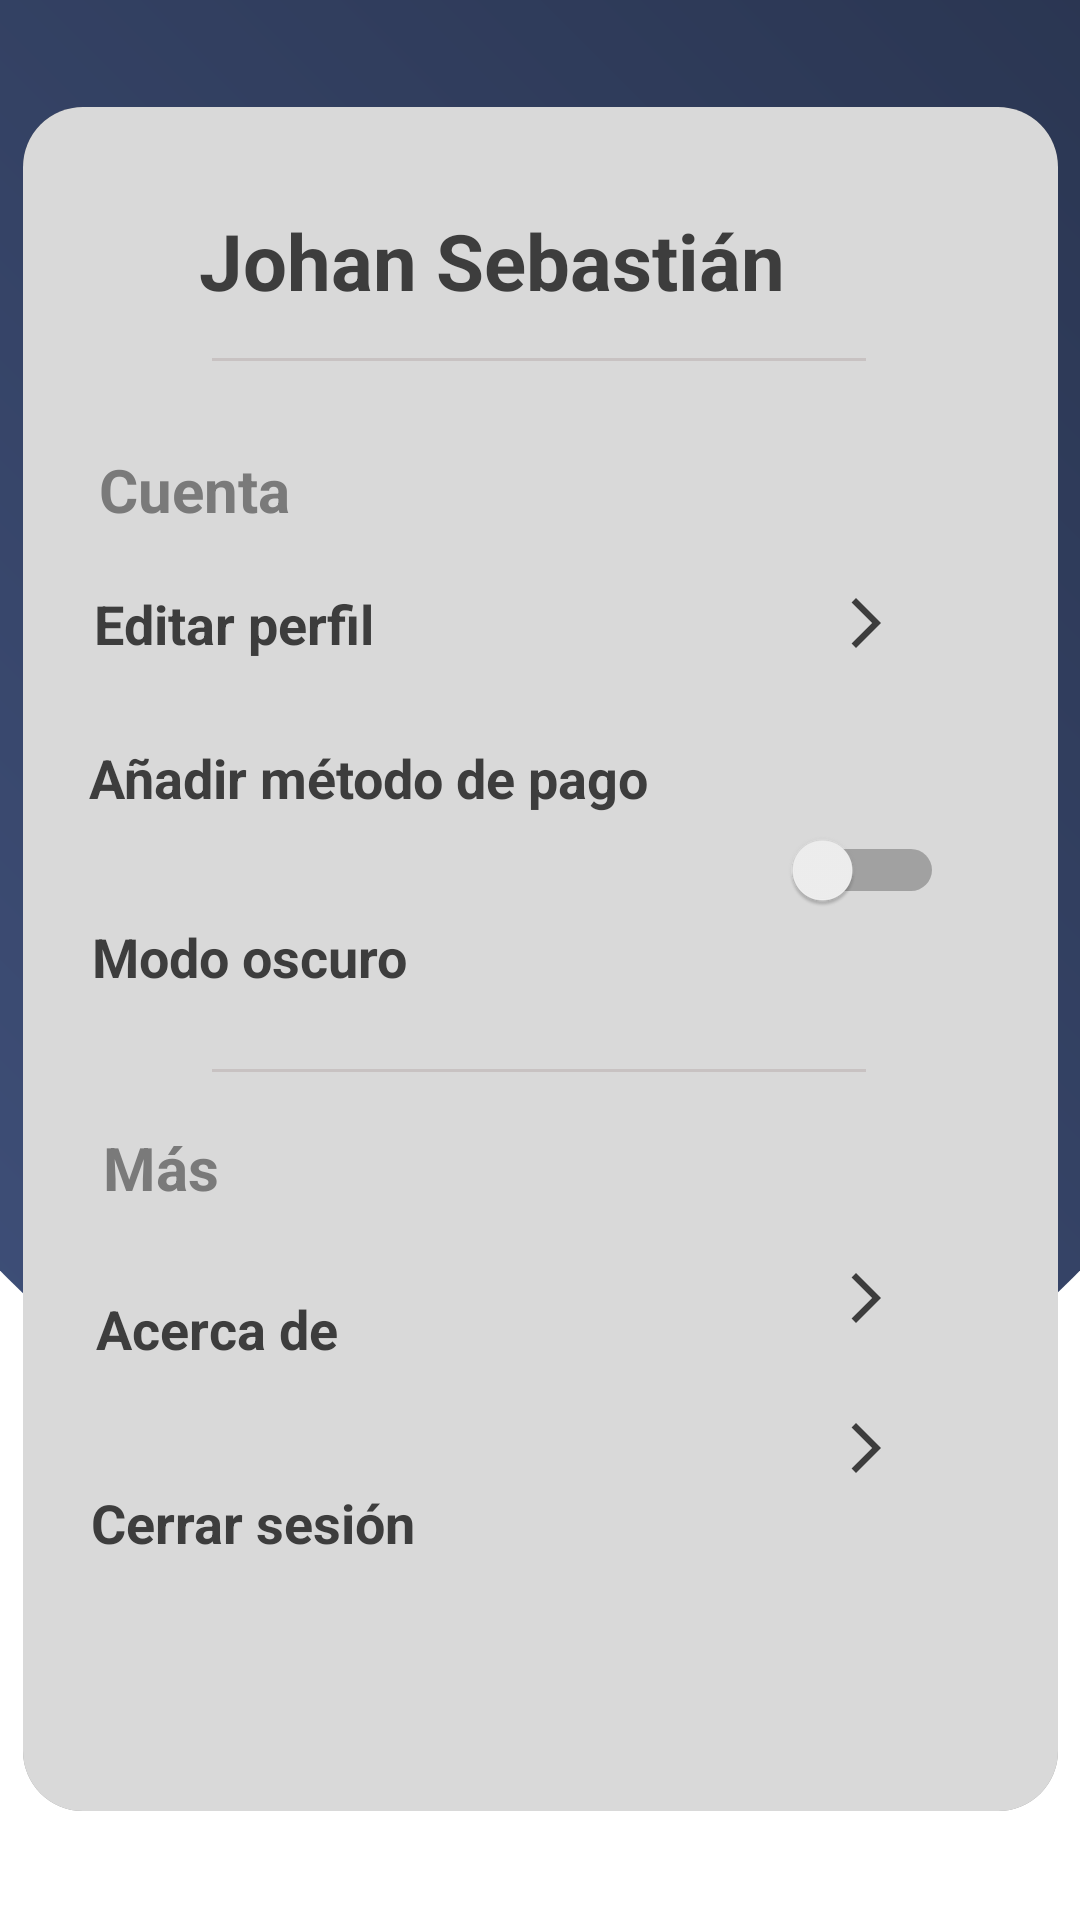

Named icons in this screenshot (1080px×1920px) and their centers, (x,y):
arrow: (866,623), (866,1298), (866,1448)
